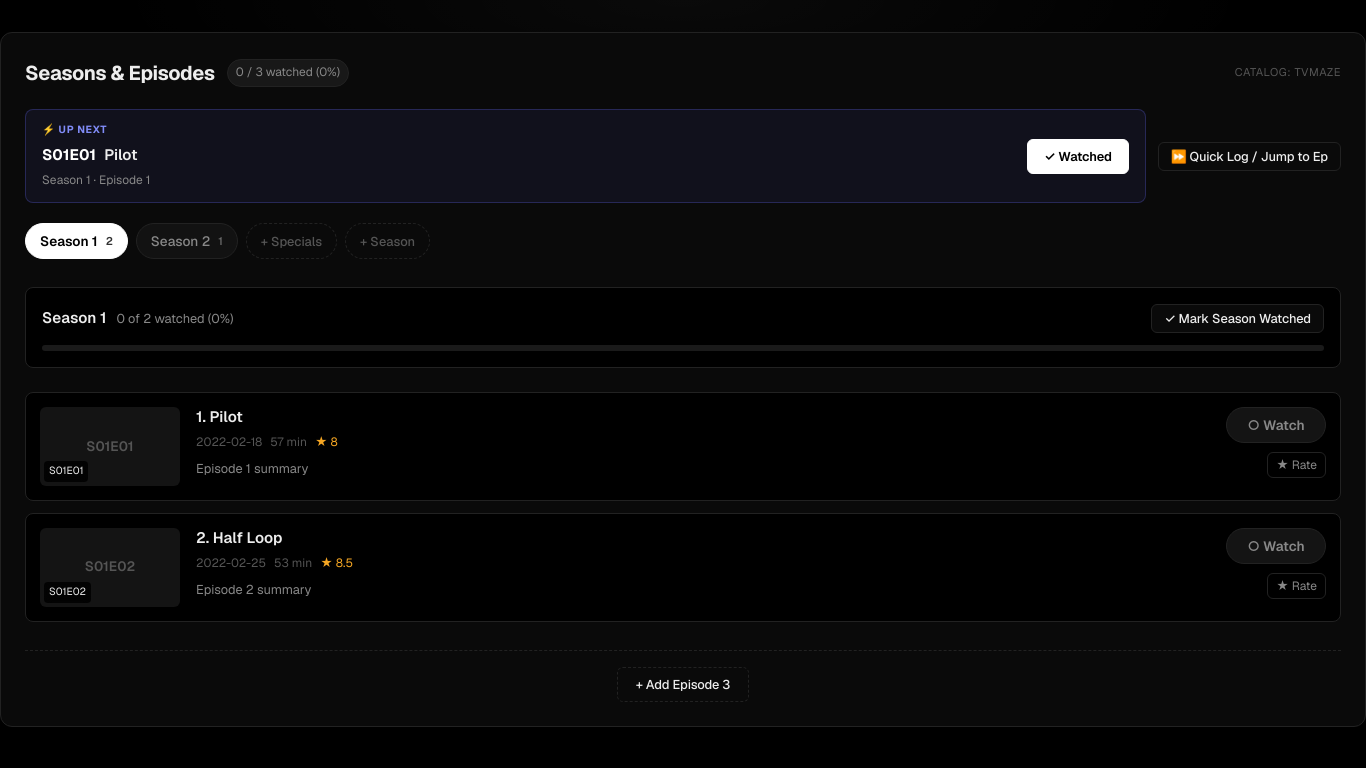
TvEpisodeTracker.vue › switches seasons when clicking another season pill
Click the tab with class "season-pill-btn" showing "Season 2 1" at [187, 241], box [136,223,238,259]
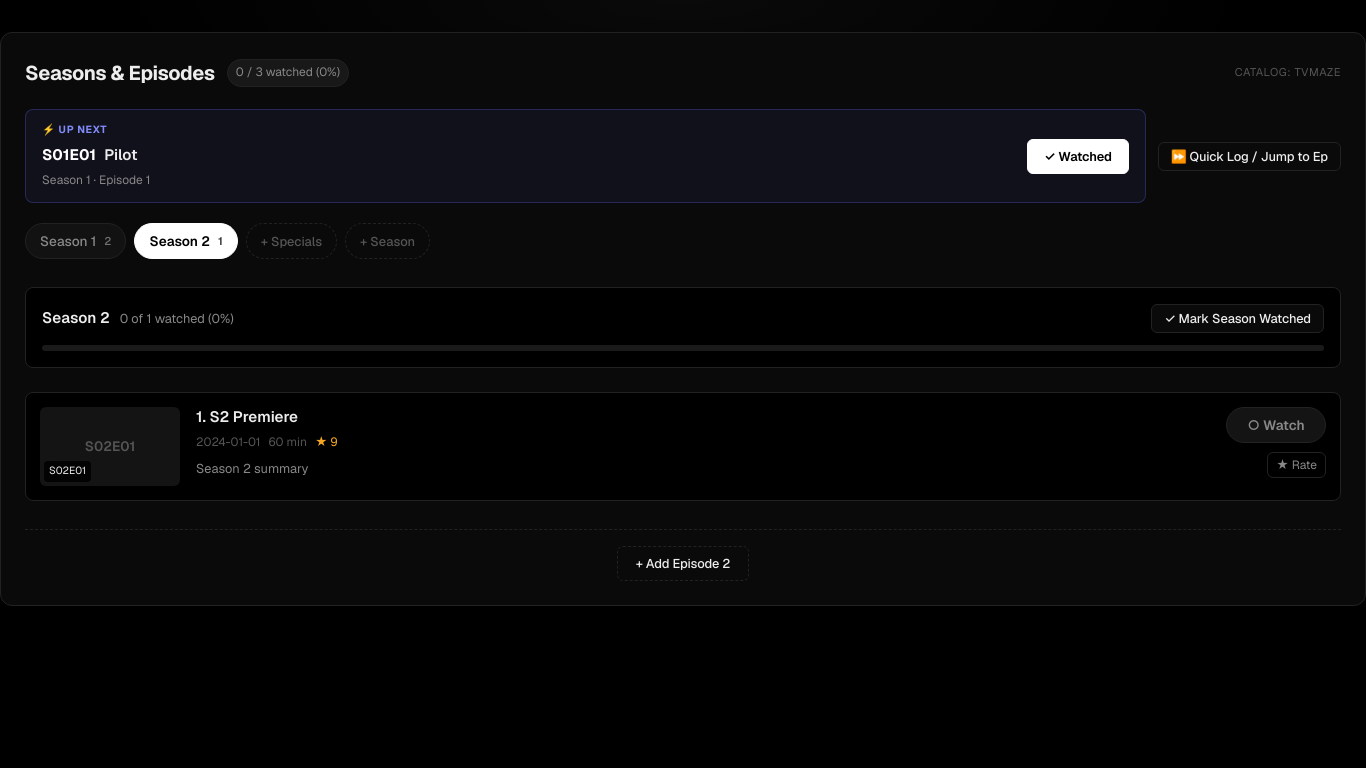
Expected: the number of elements with class "episode-card" is 1, [25,392,1341,501]
Expected: the element with class "episode-card" shows "1. S2 Premiere", [196,407,298,426]
